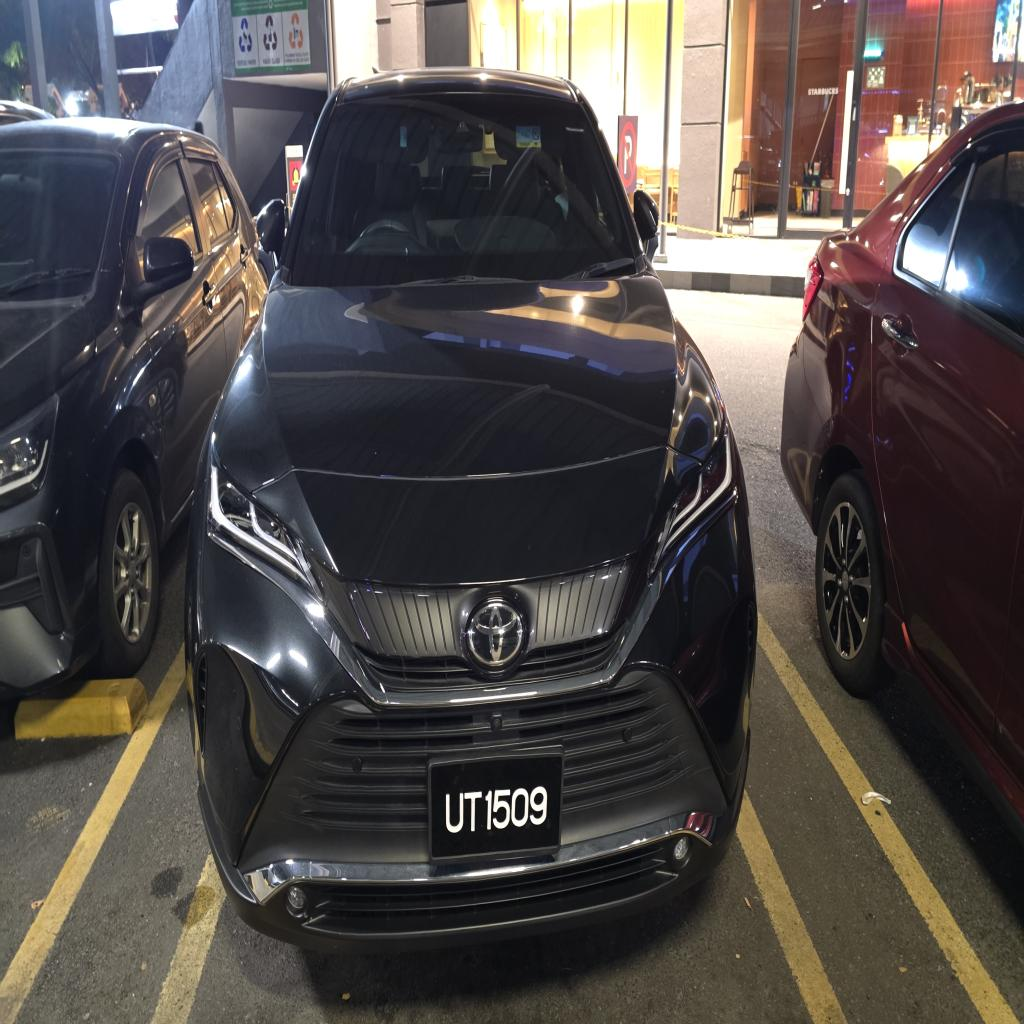car: (185, 68, 757, 949)
car plate: (429, 750, 563, 859)
